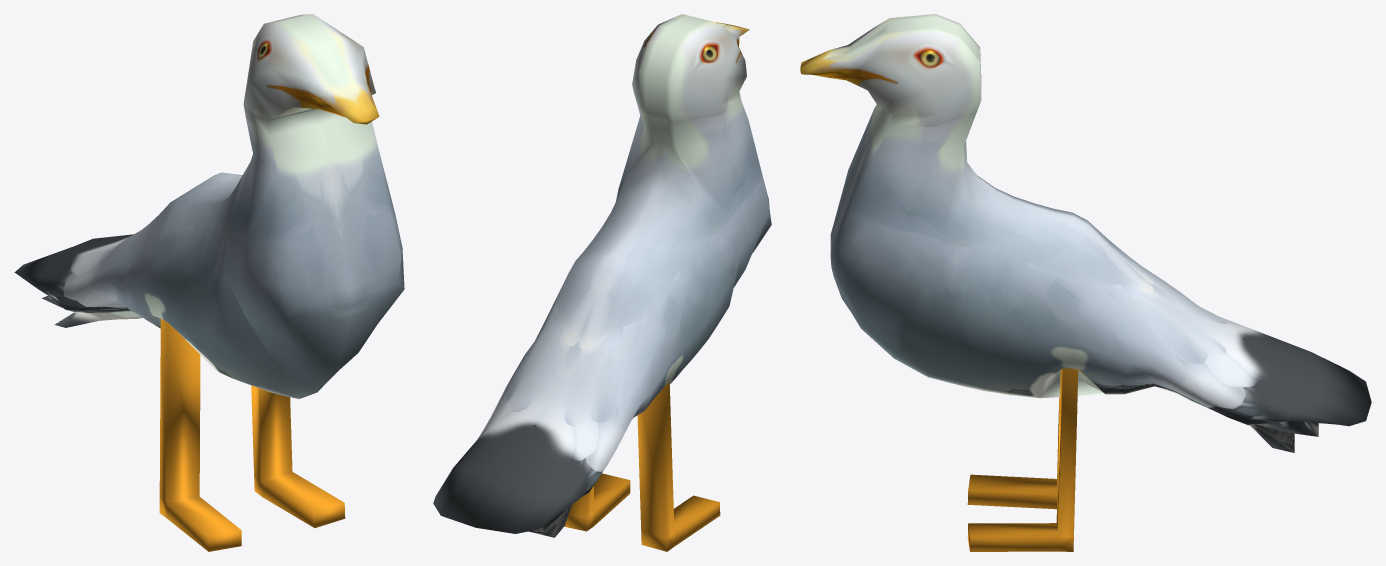
Rendered from lokkiväritetty.glb.
The picture shows the model from 3 angles, left to right: view 1: azimuth 30°, elevation 25°; view 2: azimuth 150°, elevation 25°; view 3: azimuth 270°, elevation 25°; orthographic projection. The views are drawn at different scales.
Visible parts, largest first — view 1: Plane; view 2: Plane; view 3: Plane.
Boxes of the visible parts, x1,y1,x2,y2 form: Plane: (14,14,404,551); Plane: (433,14,771,551); Plane: (800,14,1371,551).
Bounding box in the file's own units: 1.54 × 5.39 × 5.57.
1 material, 1 textured.
